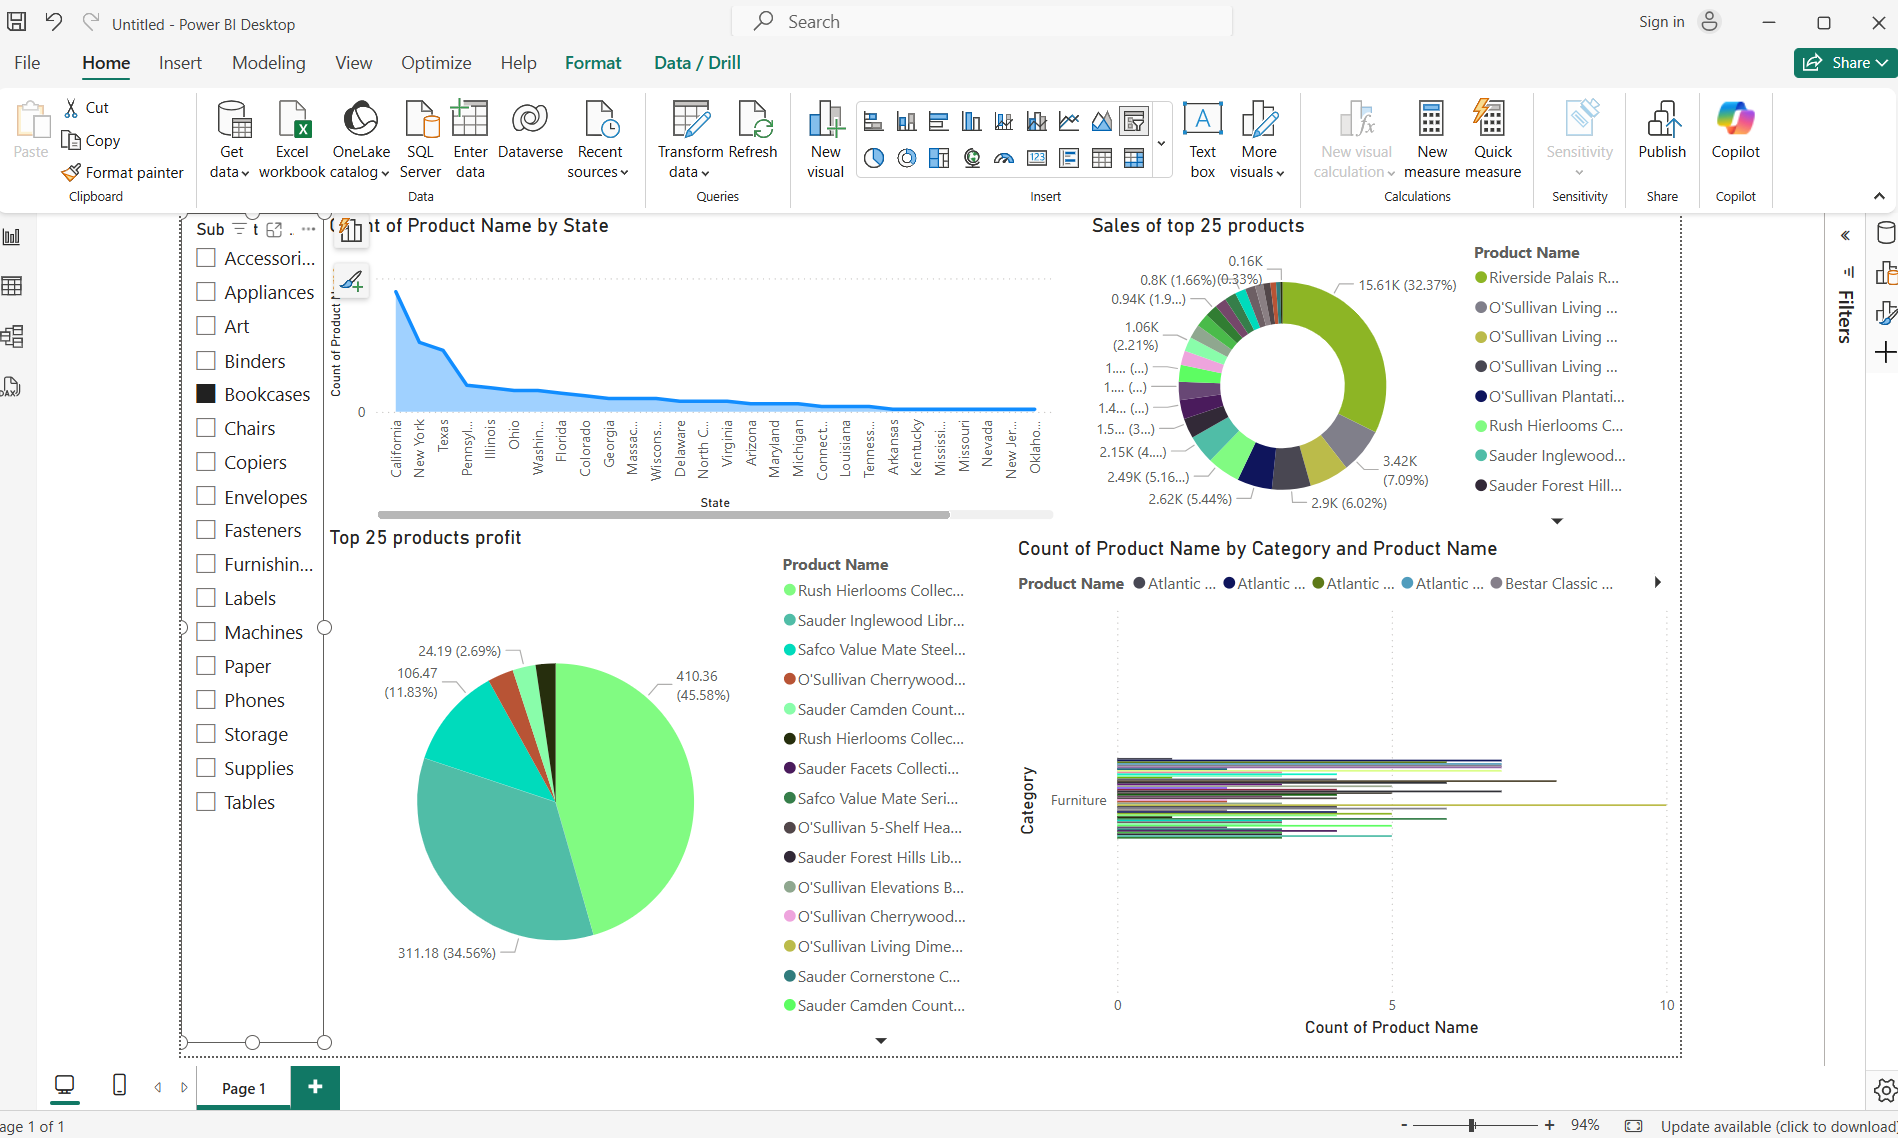

This screenshot's page, from the dashboard's own definition file:
{"tool":"powerbi","page":{"name":"Page 1","canvas":[1280,720],"ordinal":0},"visuals":[{"type":"pieChart","title":"Top 25 products profit","fields":{"Category":["Data.Product Name"],"Y":["Sum(Data.Profit)"]},"box":[121.2,266.9,562.7,453],"z":0},{"type":"clusteredBarChart","fields":{"Category":["Data.Category"],"Y":["CountNonNull(Data.Product Name)"],"Series":["Data.Product Name"]},"box":[709.5,276.9,570.5,431.5],"z":1000},{"type":"donutChart","title":"Sales of top 25 products","fields":{"Category":["Data.Product Name"],"Y":["Sum(Data.Sales)"]},"box":[772.5,0,475.9,276.3],"z":2000},{"type":"areaChart","fields":{"Y":["CountNonNull(Data.Product Name)"],"Category":["Data.State"]},"box":[121.6,0,628.5,266.7],"z":2001},{"type":"slicer","fields":{"Values":["Data.Sub-Category"]},"box":[0,0,122.3,708.3],"z":2002}]}

Visuals, with their boxes on the page's 1280x720 design canvas (x1, y1, x2, y2). These are canvas units, not pixel positions in the 1898x1138 screenshot, which may show the page scaled, cropped or inside an application window:
"Top 25 products profit" pieChart: BBox(121, 267, 684, 720)
clusteredBarChart - Data.Category x CountNonNull(Data.Product Name): BBox(710, 277, 1280, 708)
"Sales of top 25 products" donutChart: BBox(772, 0, 1248, 276)
areaChart - CountNonNull(Data.Product Name) x Data.State: BBox(122, 0, 750, 267)
slicer - Data.Sub-Category: BBox(0, 0, 122, 708)
